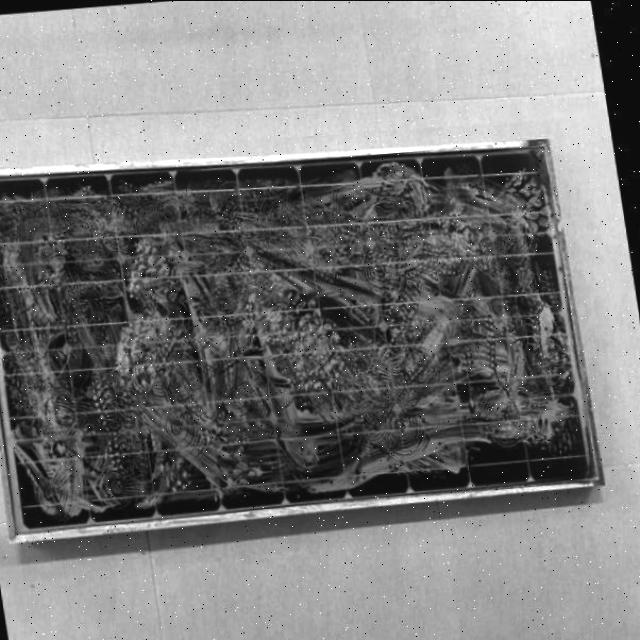Anomaly Solar Panel: (0, 147, 600, 537)
Surface Contaminant: (0, 155, 594, 525)
